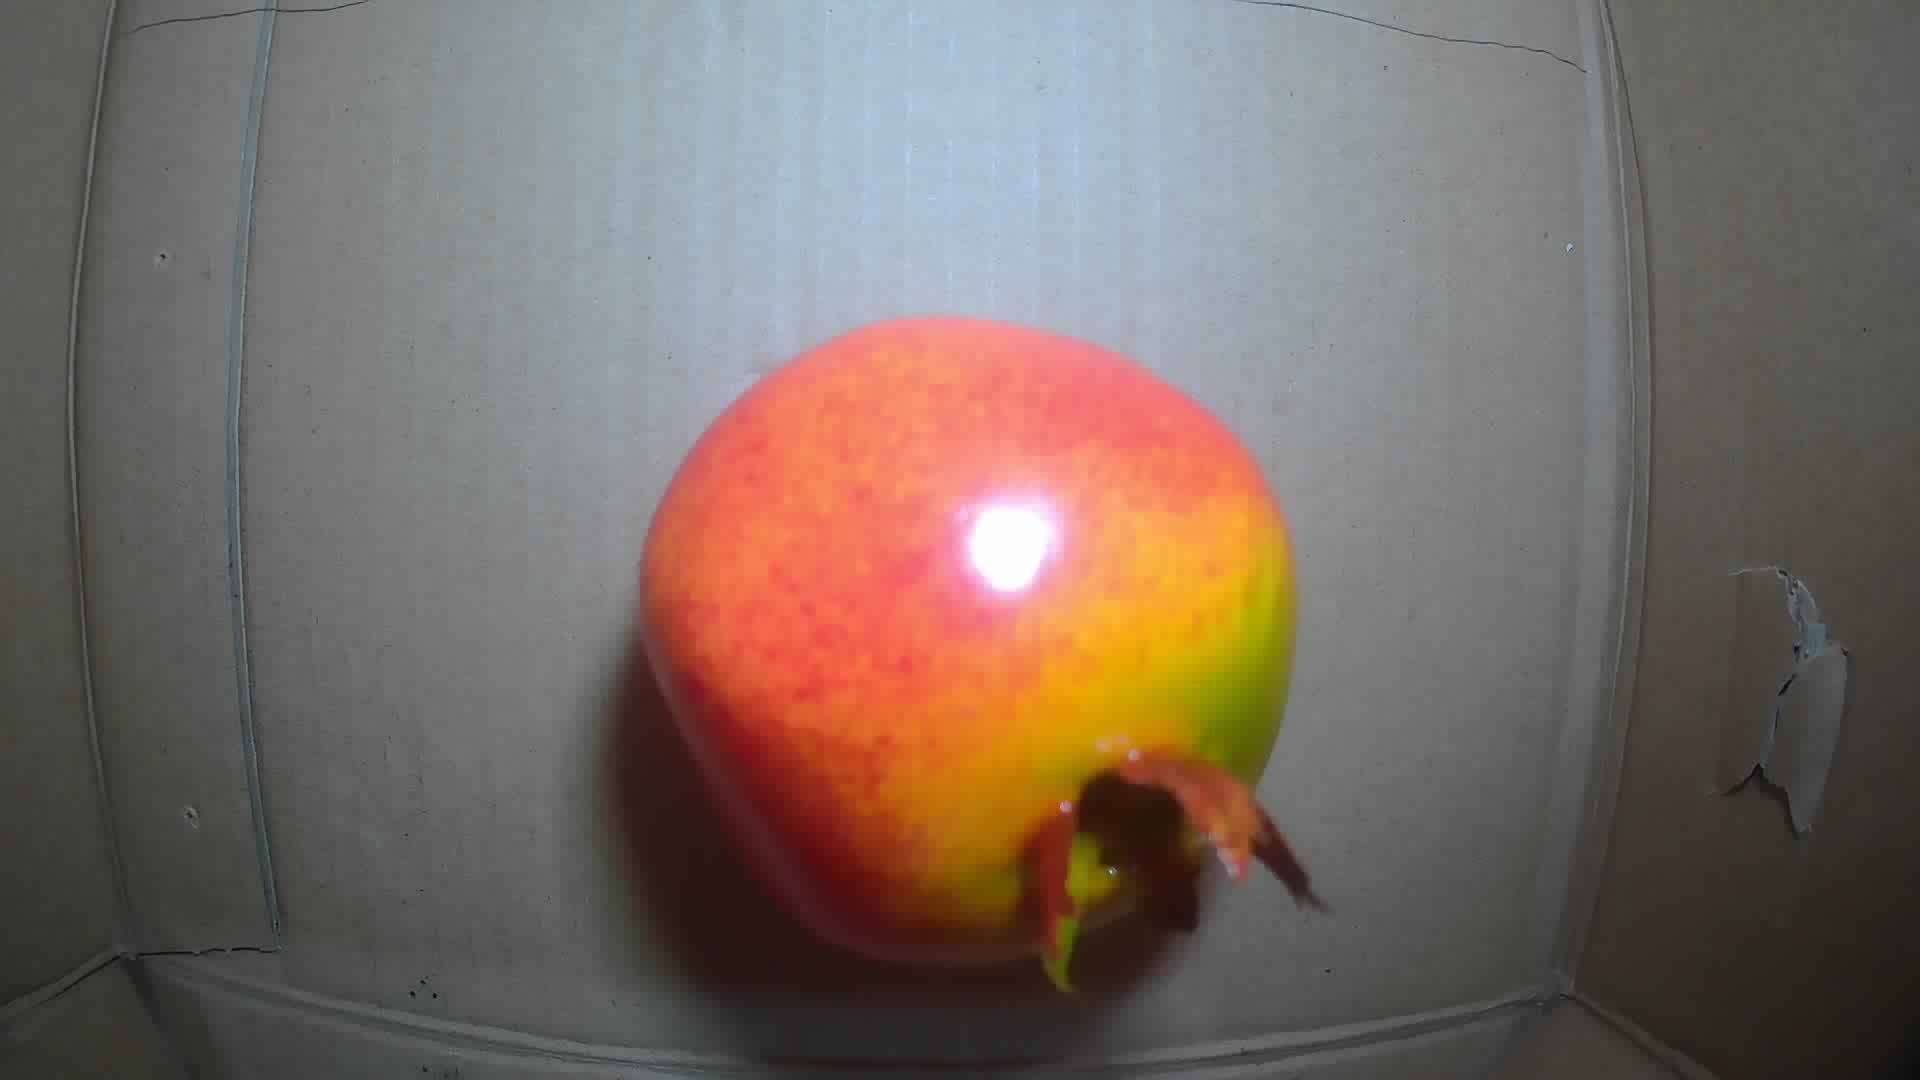pomegranate: (638, 311, 1325, 993)
